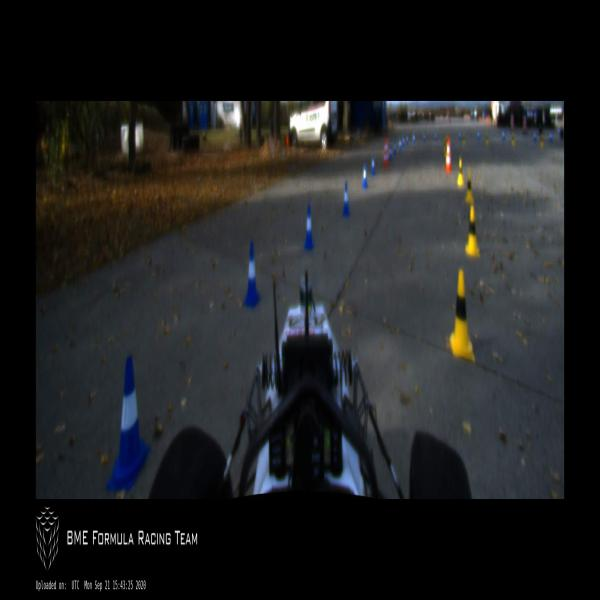blue_cone: (106, 354, 152, 491), (243, 242, 261, 308), (302, 205, 315, 249), (341, 182, 350, 216), (362, 164, 368, 188), (371, 154, 375, 174)
large_orange_cone: (445, 138, 452, 172), (382, 137, 388, 167)
yellow_cone: (449, 272, 474, 360), (465, 208, 479, 256), (464, 170, 473, 204), (456, 158, 463, 188)
